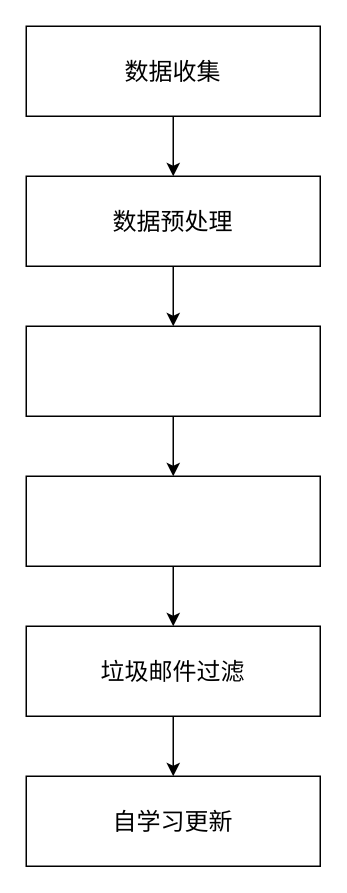
This 347x893 diagram has some shape labels left out. Each missing label, with the centre of its shape:
"模型训练" goes at (172,520).
"特征提取" goes at (172,370).
